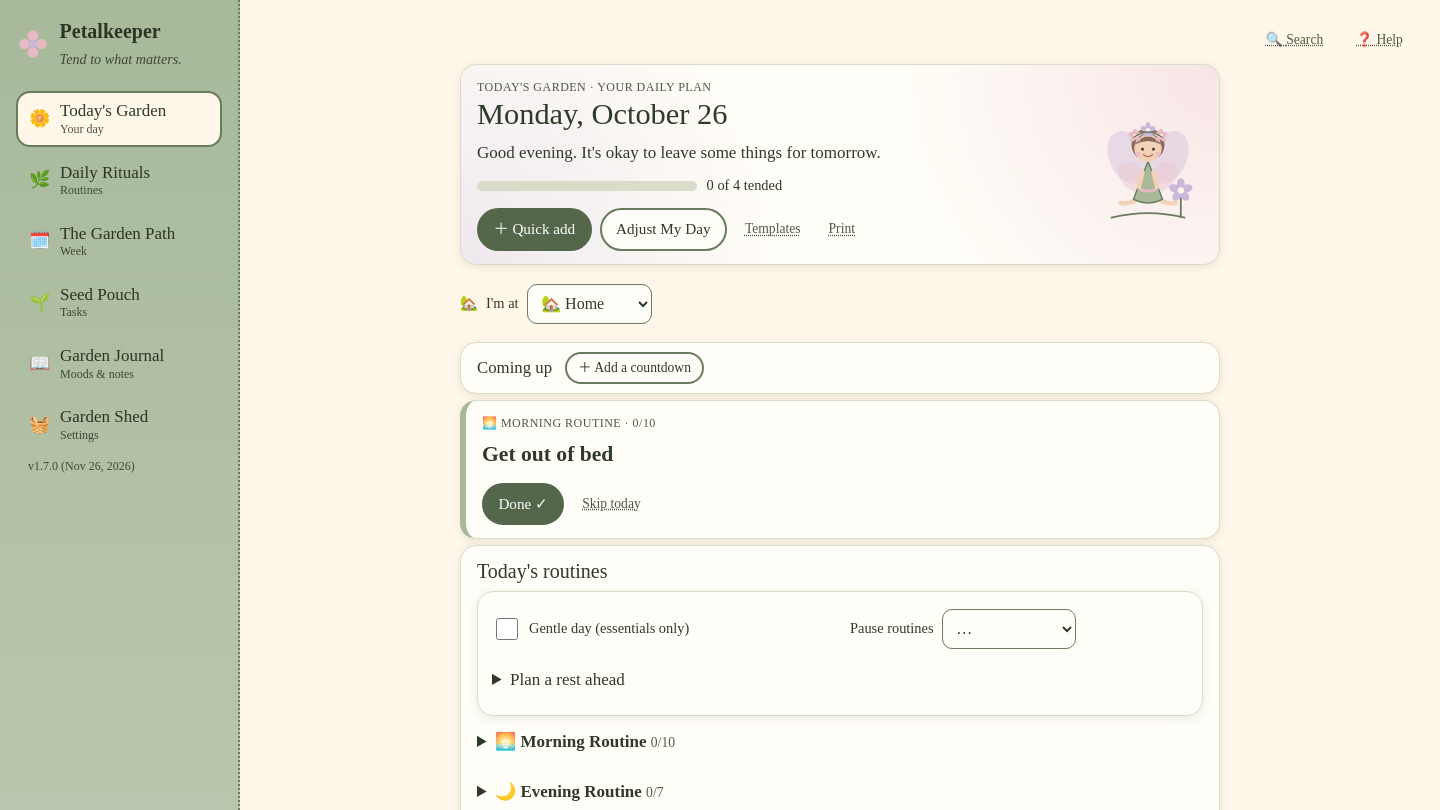
it: new UI › saves and applies a template
Click the button "Templates" at coordinates (773, 230), box [735, 213, 811, 247]
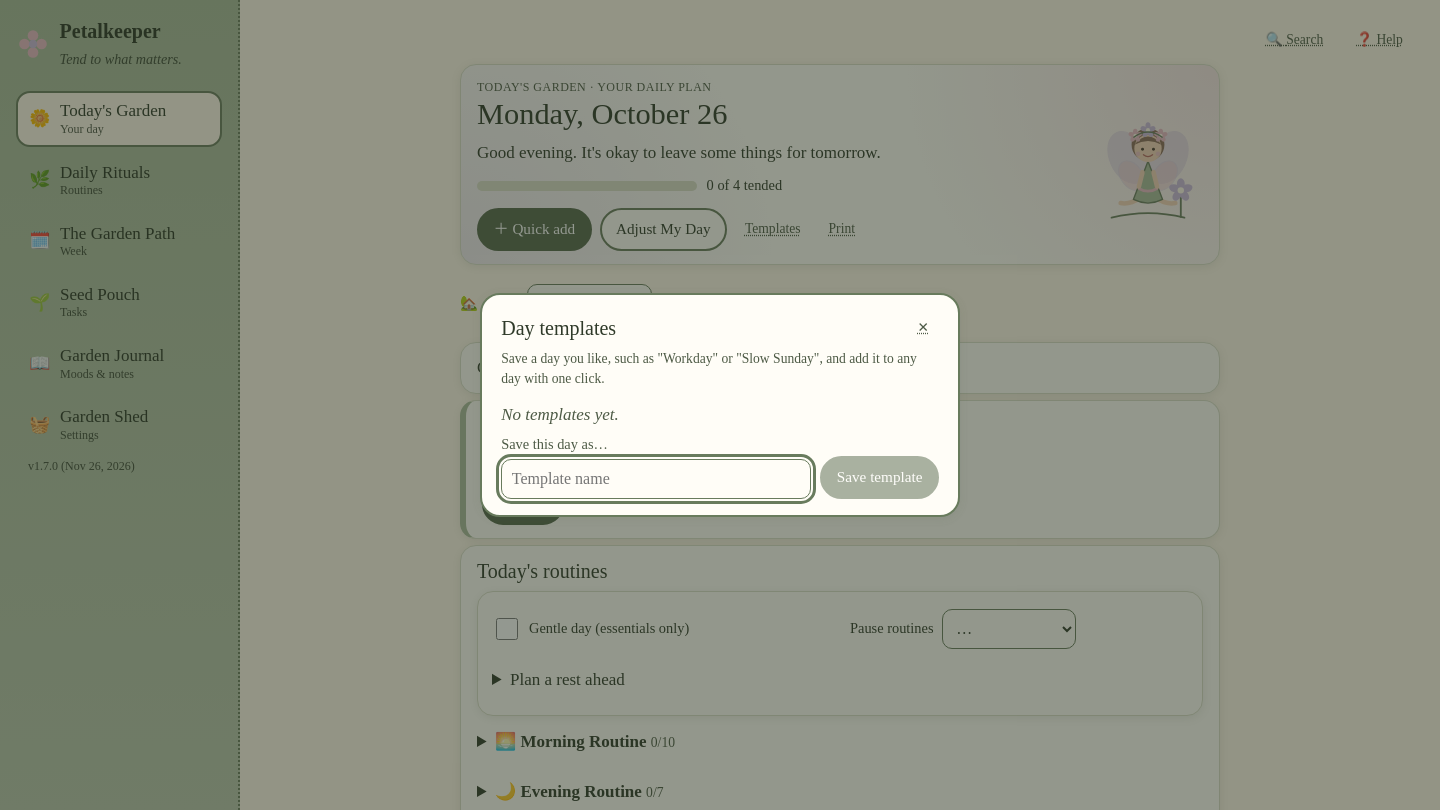
Type "My day" into the field with placeholder "Template name" at coordinates (656, 479), box [501, 458, 811, 499]
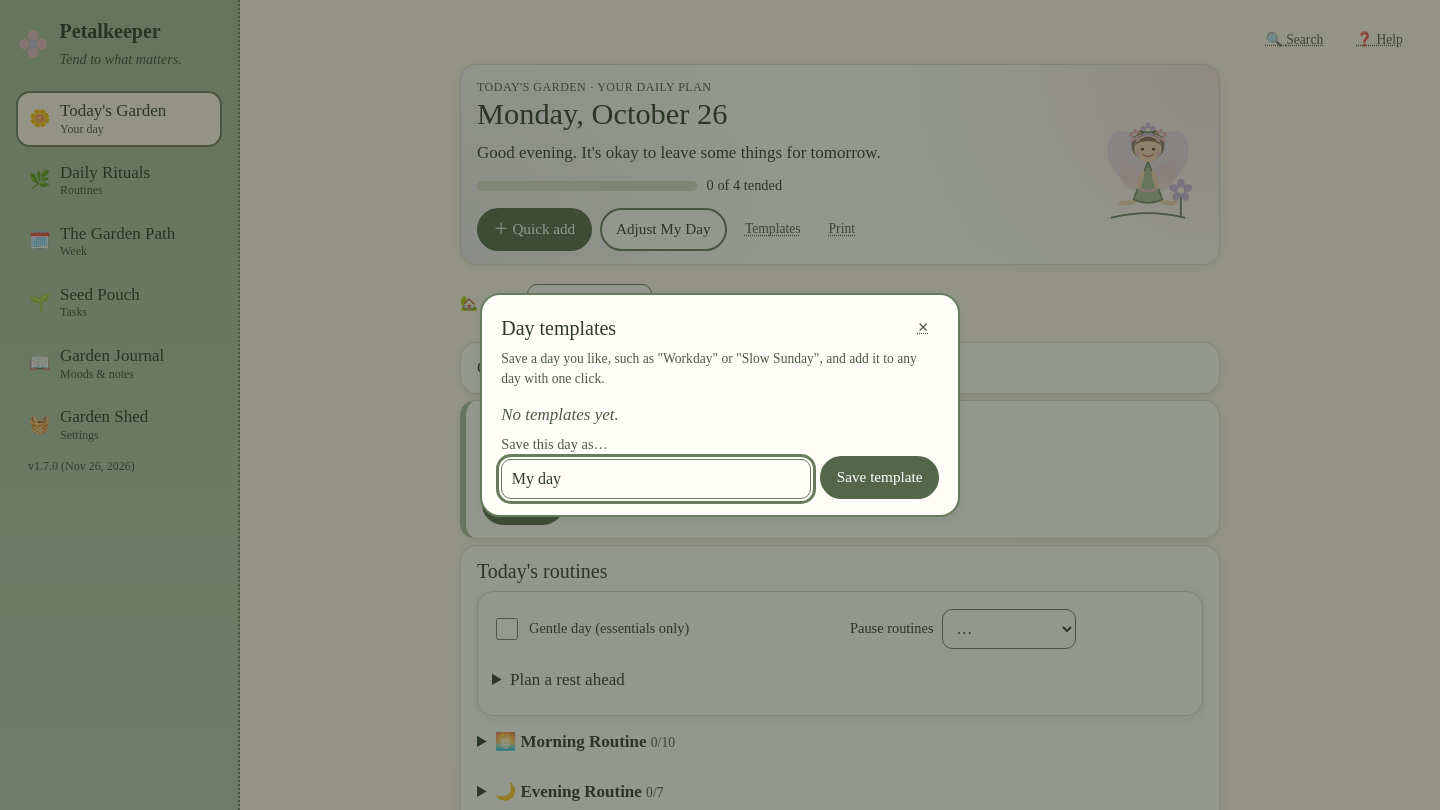
Click the button "Save template" at coordinates (880, 478), box [820, 456, 939, 499]
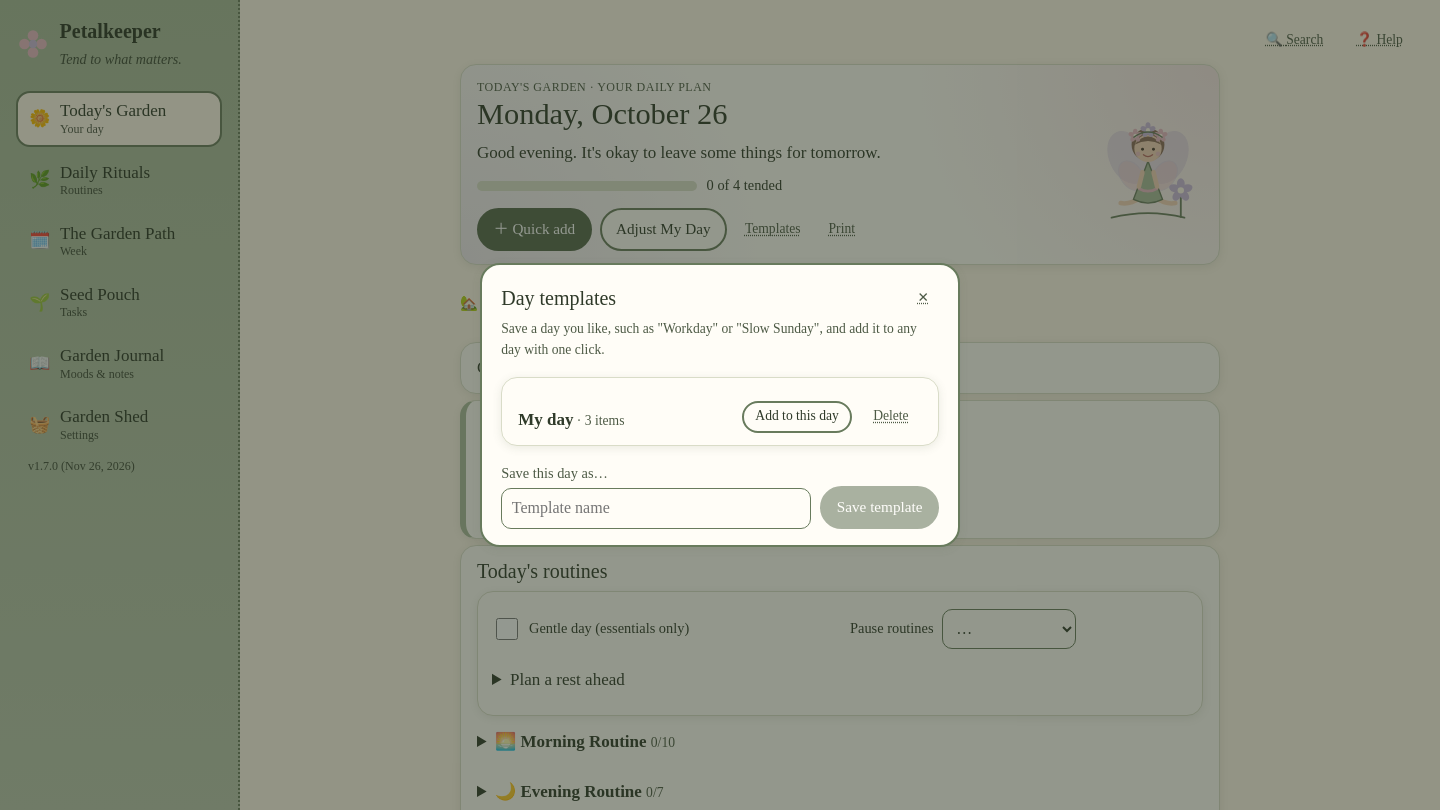
Expected: the text "My day" is shown, [518, 410, 574, 429]
